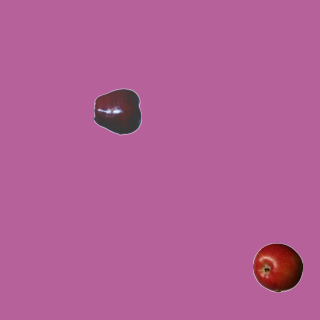Apple Braeburn: (252, 242, 302, 292)
Apple Red Delicious: (93, 86, 143, 136)
